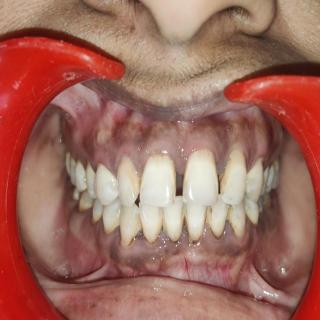Gum Swelling: (93, 137, 234, 182)
calculus: (140, 219, 161, 252), (208, 217, 228, 247), (185, 218, 203, 250), (164, 218, 182, 249), (126, 226, 140, 250)
maligned: (119, 202, 139, 248)
stains: (220, 168, 236, 200), (179, 200, 191, 227), (202, 201, 214, 223), (156, 202, 168, 222)
